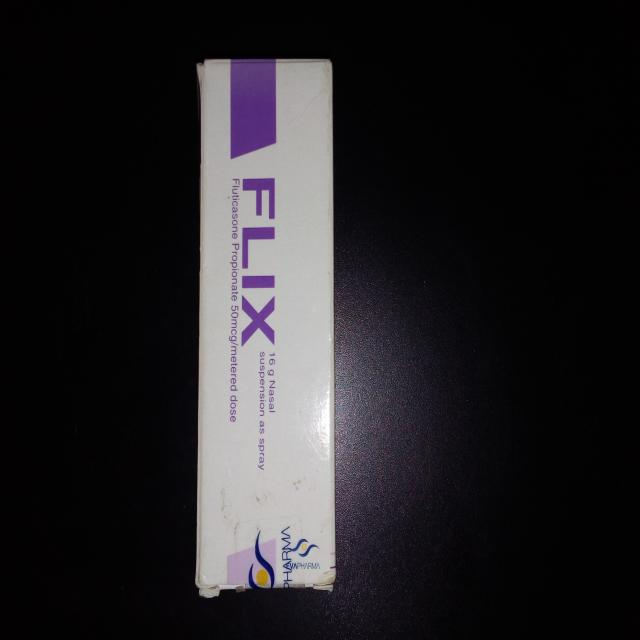Medicine: (192, 51, 346, 597)
